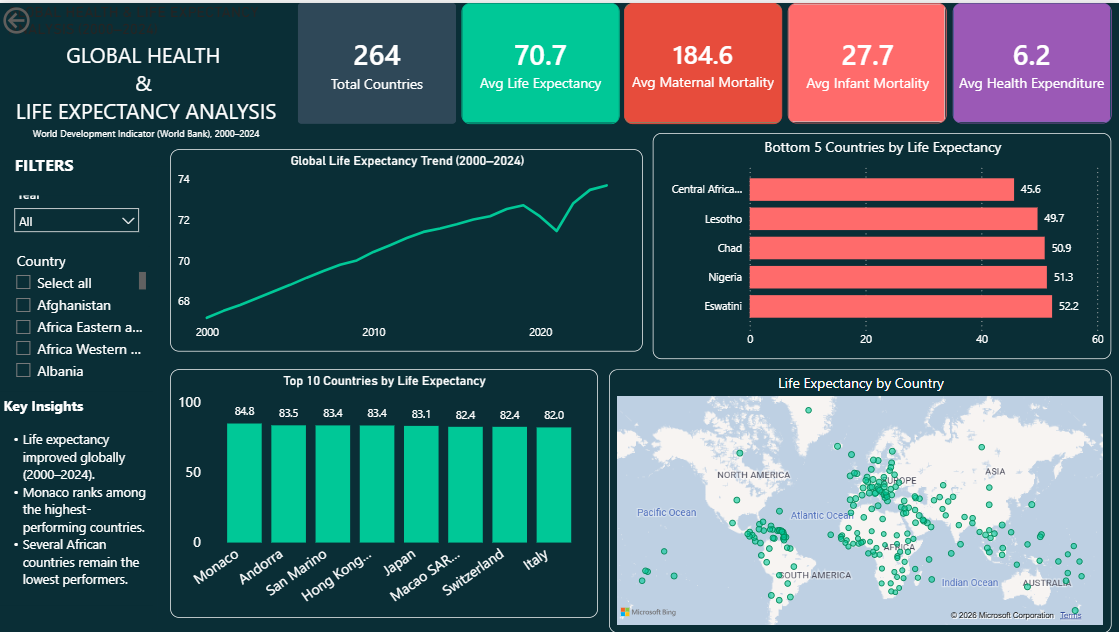

This screenshot's page, from the dashboard's own definition file:
{"tool":"powerbi","page":{"name":"Page 1","canvas":[1280,720],"ordinal":0},"visuals":[{"type":"shape","box":[0,167.1,185.7,552.9],"z":0},{"type":"textbox","box":[5,0,325,186.2],"z":1000},{"type":"cardVisual","fields":{"Data":["WDICSV.Avg Infant Mortality"]},"box":[902,0,181.6,137.4],"z":2000},{"type":"cardVisual","fields":{"Data":["WDICSV.Avg Maternal Mortality"]},"box":[715,0,181,138],"z":3000},{"type":"cardVisual","fields":{"Data":["WDICSV.Avg Health Expenditure"]},"box":[1089.6,0,181.6,137.4],"z":4000},{"type":"cardVisual","fields":{"Data":["WDICSV.Avg Life Expectancy"]},"box":[528,0,181,138],"z":5000},{"type":"cardVisual","fields":{"Data":["Count(WDICSV.Country Name)"]},"box":[341,0,181,138],"z":6000},{"type":"lineChart","title":"Global Life Expectancy Trend (2000–2024)","fields":{"Category":["WDICSV.Year"],"Y":["WDICSV.Avg Life Expectancy"]},"box":[196.2,167.5,540,231.2],"z":7000},{"type":"columnChart","title":"Top 10 Countries by Life Expectancy","fields":{"Category":["WDICSV.Country Name"],"Y":["WDICSV.Avg Life Expectancy"]},"box":[195.7,418.6,488.6,284.3],"z":8000},{"type":"clusteredBarChart","title":"Bottom 5 Countries by Life Expectancy","fields":{"Category":["WDICSV.Country Name"],"Y":["WDICSV.Avg Life Expectancy"]},"box":[747.1,148.6,524.3,258.6],"z":9000},{"type":"slicer","fields":{"Values":["WDICSV.Country Name"]},"box":[7.1,278.6,165.7,161.4],"z":10000},{"type":"slicer","fields":{"Values":["WDICSV.Year"]},"box":[7.1,205.7,162.9,72.9],"z":11000},{"type":"textbox","box":[12.9,167.1,154.3,52.9],"z":12000},{"type":"map","title":"Life Expectancy by Country","fields":{"Category":["WDICSV.Country Name"],"Size":["WDICSV.Avg Life Expectancy"]},"box":[697.1,418.6,574.3,301.4],"z":14000},{"type":"actionButton","box":[0,0,100,40],"z":15000},{"type":"textbox","box":[0,444.3,175.7,244.3],"z":16000}]}

Visuals, with their boxes in screenshot pixels (x1, y1, x2, y2), scaled from the page's 1280x720 canvas onto the 1119x632 screenshot:
shape: BBox(0, 147, 162, 631)
textbox: BBox(4, 0, 288, 163)
cardVisual - WDICSV.Avg Infant Mortality: BBox(789, 0, 947, 121)
cardVisual - WDICSV.Avg Maternal Mortality: BBox(625, 0, 783, 121)
cardVisual - WDICSV.Avg Health Expenditure: BBox(953, 0, 1111, 121)
cardVisual - WDICSV.Avg Life Expectancy: BBox(462, 0, 620, 121)
cardVisual - Count(WDICSV.Country Name): BBox(298, 0, 456, 121)
"Global Life Expectancy Trend (2000–2024)" lineChart: BBox(172, 147, 644, 350)
"Top 10 Countries by Life Expectancy" columnChart: BBox(171, 367, 598, 617)
"Bottom 5 Countries by Life Expectancy" clusteredBarChart: BBox(653, 130, 1111, 357)
slicer - WDICSV.Country Name: BBox(6, 245, 151, 386)
slicer - WDICSV.Year: BBox(6, 181, 149, 245)
textbox: BBox(11, 147, 146, 193)
"Life Expectancy by Country" map: BBox(609, 367, 1111, 631)
actionButton: BBox(0, 0, 87, 35)
textbox: BBox(0, 390, 154, 604)
